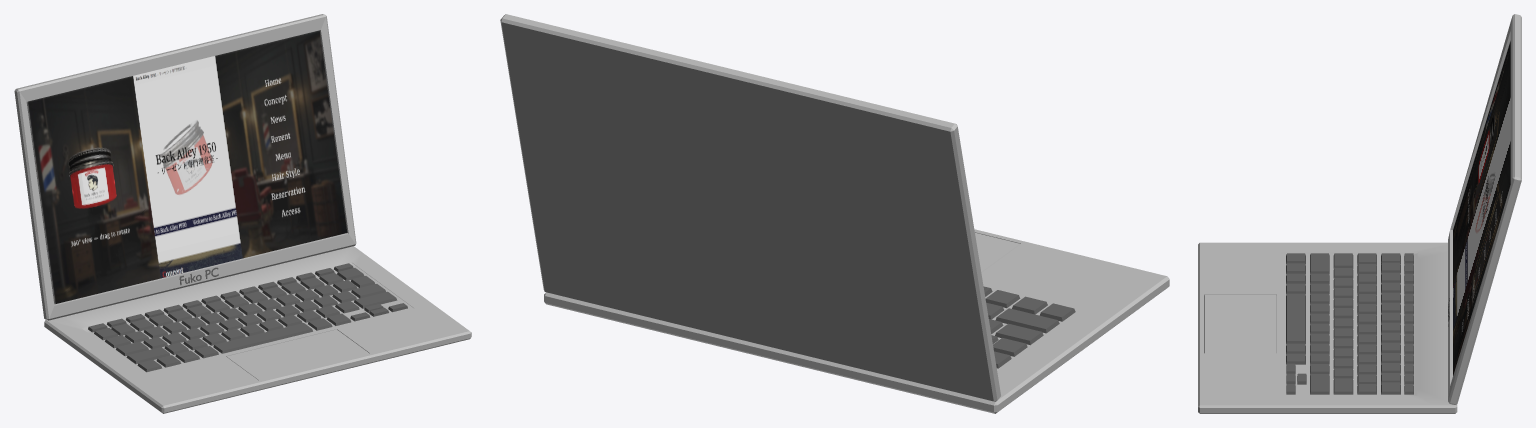
The model's file is rezent-pc.glb.
The picture shows the model from 3 angles, left to right: view 1: azimuth 30°, elevation 25°; view 2: azimuth 150°, elevation 25°; view 3: azimuth 270°, elevation 25°; orthographic projection. The views are drawn at different scales.
Parts seen in each view (by area): view 1: Cube.001, Cube, Cube.002; view 2: Cube.001, Cube, Cube.002; view 3: Cube, Cube.002, Cube.001.
Boxes of the visible parts, x1,y1,x2,y2 form: Cube.001: (14, 14, 356, 320); Cube: (44, 246, 471, 413); Cube.002: (88, 263, 407, 372); Cube.001: (500, 14, 1000, 401); Cube: (544, 229, 1169, 413); Cube.002: (983, 286, 1075, 368); Cube: (1198, 242, 1457, 413); Cube.002: (1286, 253, 1413, 394); Cube.001: (1448, 14, 1521, 404).
Size of the model in its own units: 2.4 by 1.63 by 2.
3 materials, 1 textured.
